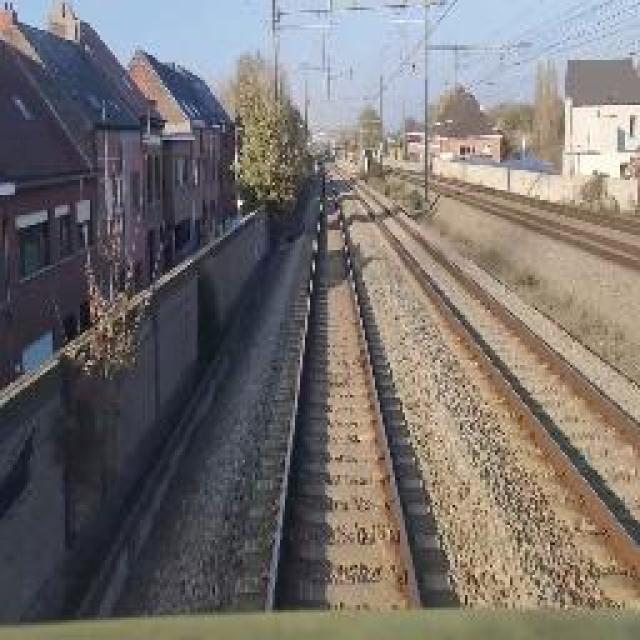rail: (323, 159, 640, 605), (232, 159, 472, 616)
